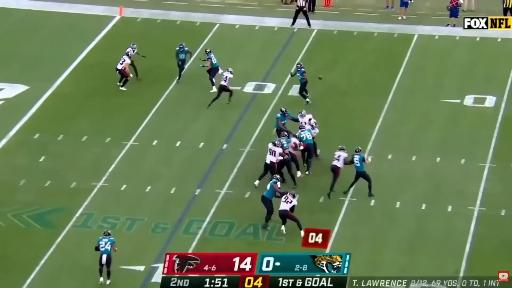Helmet: (103, 230, 112, 239), (178, 42, 185, 52), (271, 141, 281, 148), (280, 107, 288, 115), (280, 132, 289, 139), (296, 63, 303, 70), (355, 148, 362, 155), (311, 122, 318, 129), (300, 110, 306, 118), (273, 175, 282, 180), (290, 192, 296, 199), (338, 146, 346, 151), (126, 51, 132, 57), (131, 43, 137, 49), (227, 69, 233, 74), (299, 126, 305, 131), (294, 132, 299, 138), (206, 50, 211, 55)
Jersey: (264, 180, 280, 199), (266, 144, 282, 163), (98, 237, 115, 254), (280, 195, 297, 210), (279, 139, 291, 159), (332, 151, 347, 167), (352, 154, 365, 171), (275, 113, 289, 128), (299, 129, 313, 144), (309, 117, 319, 137), (220, 72, 233, 86), (299, 115, 312, 128), (176, 48, 189, 61), (117, 56, 130, 69), (296, 67, 306, 83), (207, 54, 218, 67), (291, 137, 301, 148), (126, 47, 137, 57)
Player: (254, 141, 286, 187), (344, 147, 373, 196), (261, 175, 282, 229), (95, 231, 116, 284), (279, 192, 303, 237), (328, 146, 348, 199), (278, 132, 297, 187), (207, 68, 233, 108), (298, 110, 319, 158), (200, 49, 222, 92), (282, 132, 302, 177), (291, 62, 310, 104), (299, 125, 314, 174), (126, 43, 145, 79), (275, 108, 298, 137), (116, 53, 132, 90), (176, 43, 191, 82), (310, 118, 319, 158)
